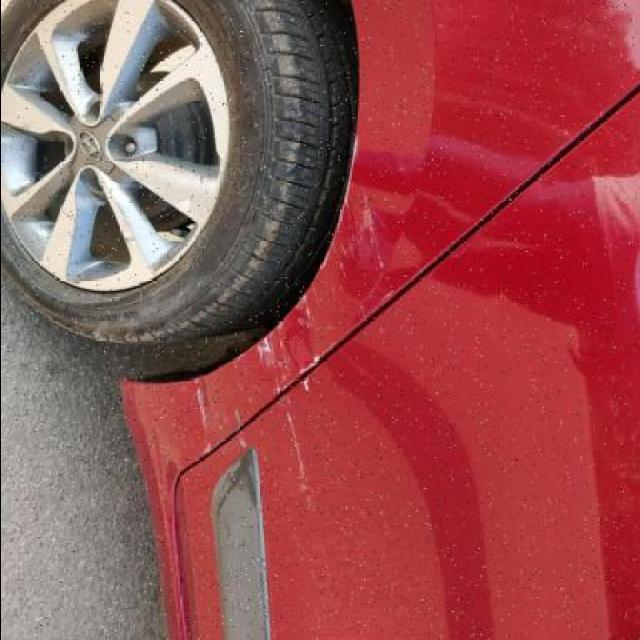quaterpanel-dent: (31, 0, 494, 397)
